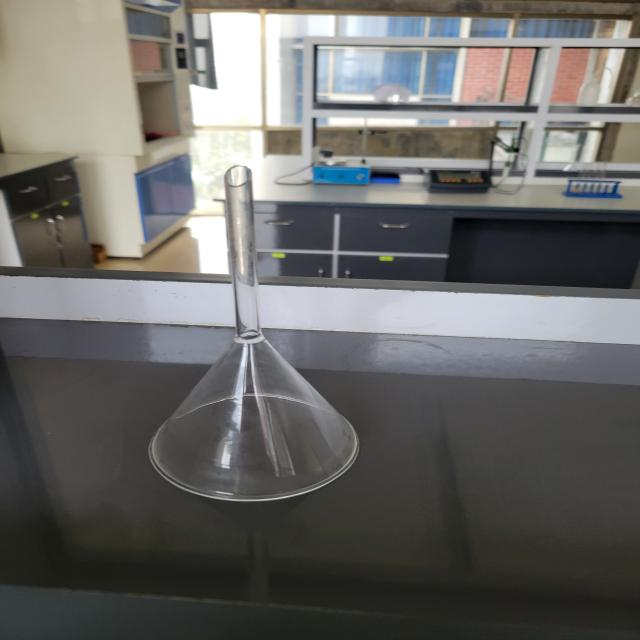Funnel: (70, 135, 402, 526)
